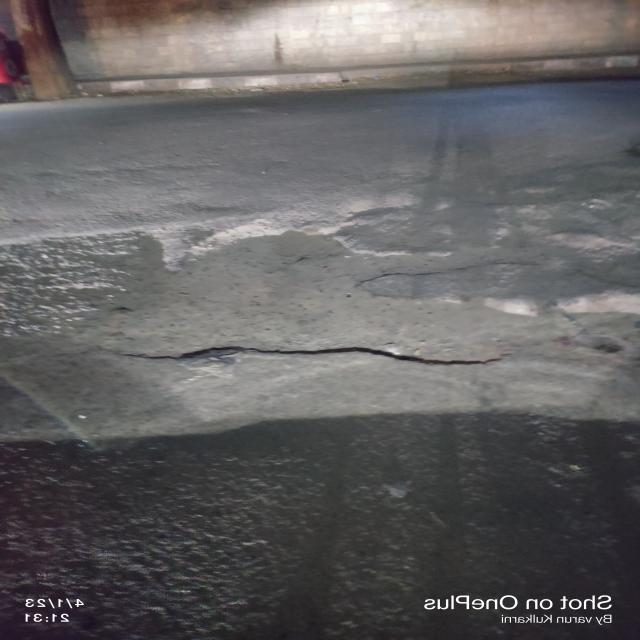potholes: (86, 296, 526, 377)
